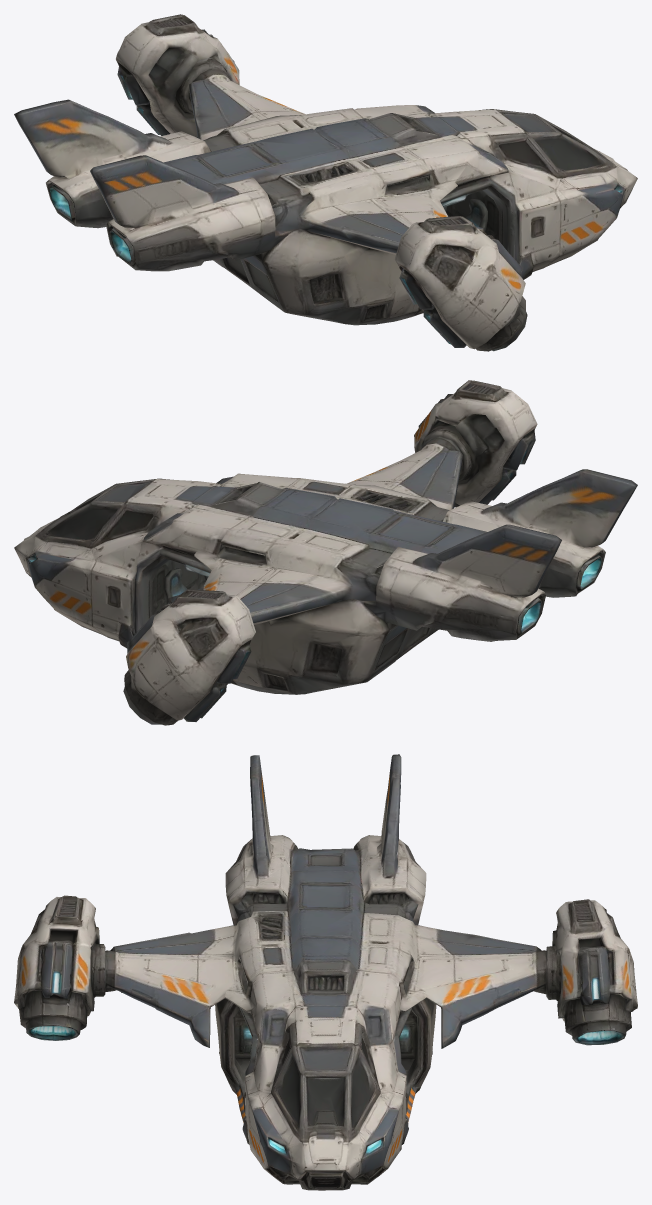
File: ship.glb
The picture shows the model from 3 angles, top to bottom: view 1: azimuth 30°, elevation 25°; view 2: azimuth 150°, elevation 25°; view 3: azimuth 270°, elevation 25°; orthographic projection. The views are drawn at different scales.
Parts seen in each view (by area): view 1: tripo_node_cf4c043b-04a6-447c-9ecd-234b27072699; view 2: tripo_node_cf4c043b-04a6-447c-9ecd-234b27072699; view 3: tripo_node_cf4c043b-04a6-447c-9ecd-234b27072699.
Part boxes in pixels (left/top/right/bottom): tripo_node_cf4c043b-04a6-447c-9ecd-234b27072699: left=14, top=14, right=637, bottom=351; tripo_node_cf4c043b-04a6-447c-9ecd-234b27072699: left=14, top=380, right=637, bottom=725; tripo_node_cf4c043b-04a6-447c-9ecd-234b27072699: left=14, top=754, right=637, bottom=1190.
Size of the model in its own units: 0.9875 by 0.3594 by 1.
Materials: 1 (1 with a texture image).
